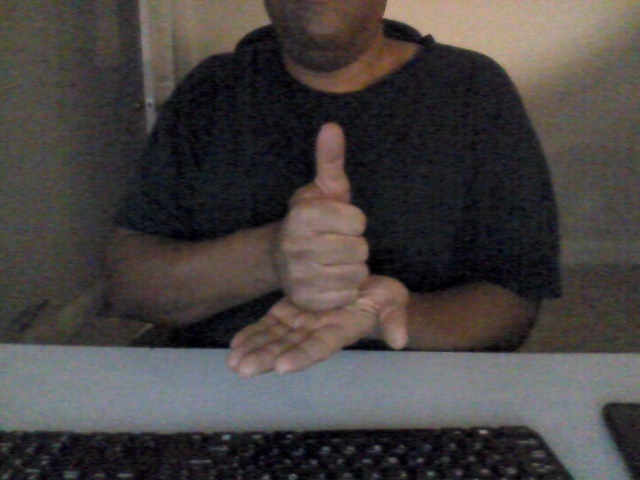help: (223, 115, 415, 386)
